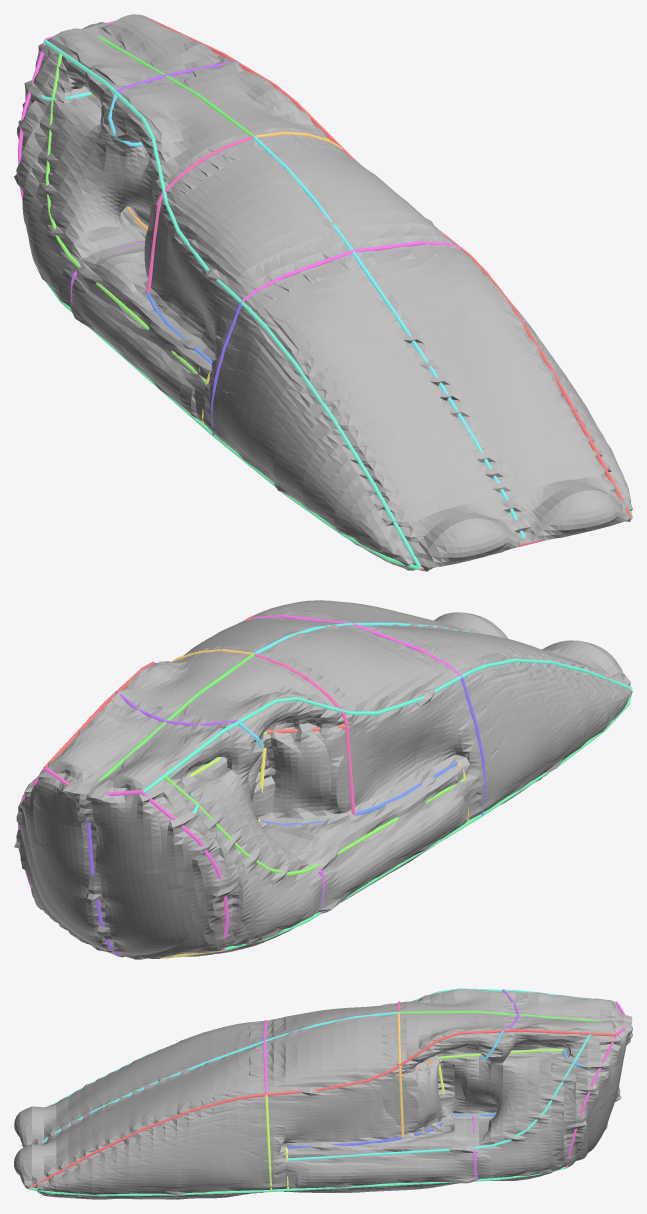
Rendered from t2f_hand_vacuum.gltf.
The picture shows the model from 3 angles, top to bottom: view 1: azimuth 30°, elevation 25°; view 2: azimuth 150°, elevation 25°; view 3: azimuth 270°, elevation 25°; orthographic projection. The views are drawn at different scales.
Bounding box in the file's own units: 0.3441 × 0.264 × 0.9444.
